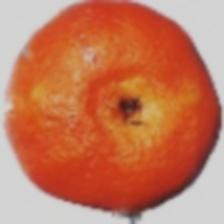tangerine: (55, 38, 203, 185)
